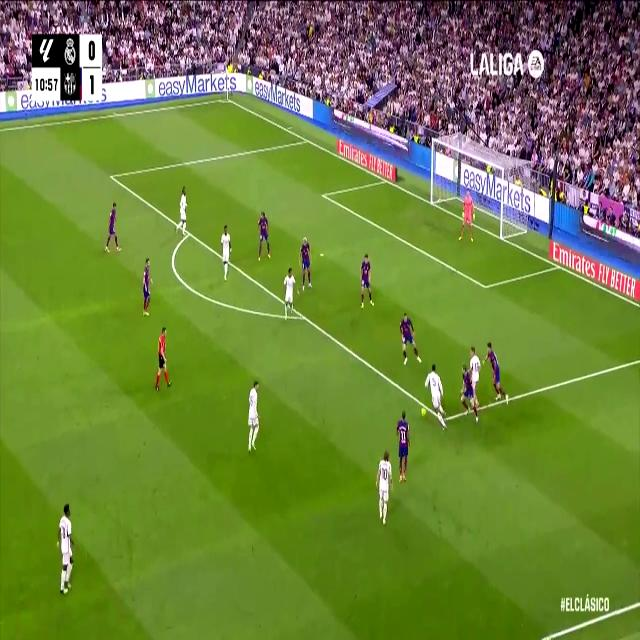bigarea_top_inner: (107, 166, 115, 184)
bigarea_top_outter: (303, 132, 311, 146)
bottom_arc_area_intersection: (298, 307, 308, 325)
corner: (222, 93, 232, 104)
smallarea_bottom_inner: (480, 276, 490, 296)
smallarea_top_inner: (320, 188, 326, 201)
top_arc_area_intersection: (185, 224, 193, 242)
